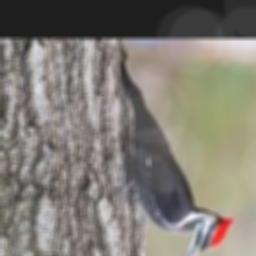Woodpecker: (115, 52, 235, 256)
